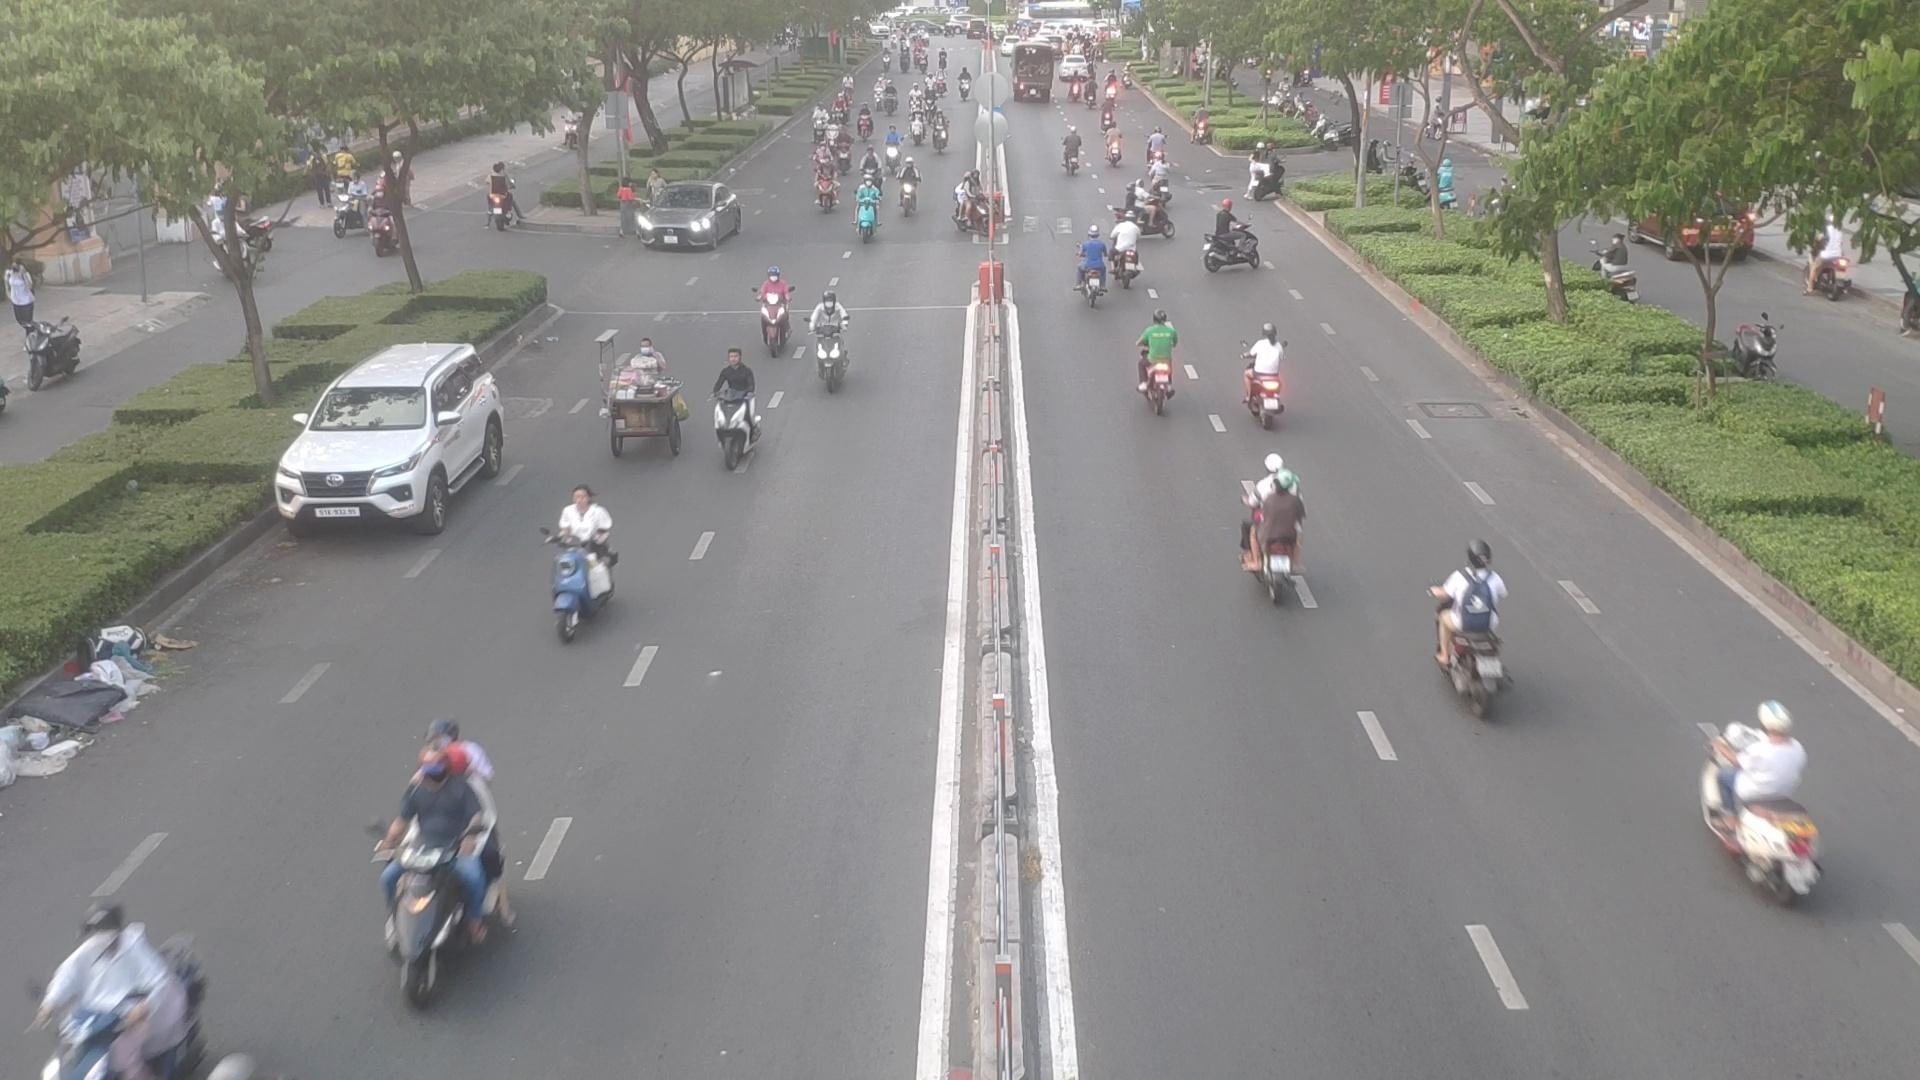car: (280, 339, 520, 527), (616, 189, 752, 255)
motorbike: (372, 727, 522, 989), (26, 899, 199, 1080), (1693, 702, 1828, 898), (1428, 549, 1522, 708), (1232, 454, 1317, 593), (538, 491, 621, 628), (696, 347, 764, 464), (804, 287, 866, 389), (1131, 313, 1193, 410), (1241, 322, 1292, 423), (960, 171, 1021, 247), (1073, 224, 1124, 306), (1204, 212, 1269, 273), (745, 268, 796, 343), (1126, 175, 1176, 236), (1058, 137, 1088, 178)
